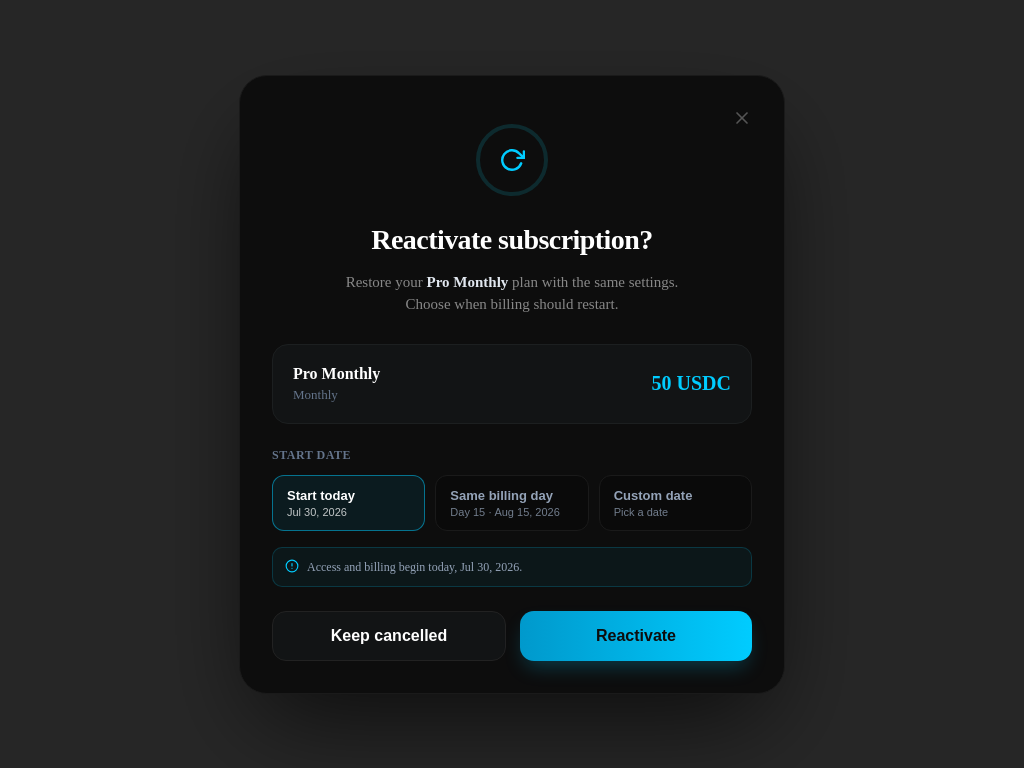
Test case: ReactivationModal – microcopy › shows billing-day microcopy when billing-day mode is selected
Step 1. Click the button "Same billing day Day 15 · Aug 15, 2026" → (512, 502), box x1=435 y1=474 x2=589 y2=530
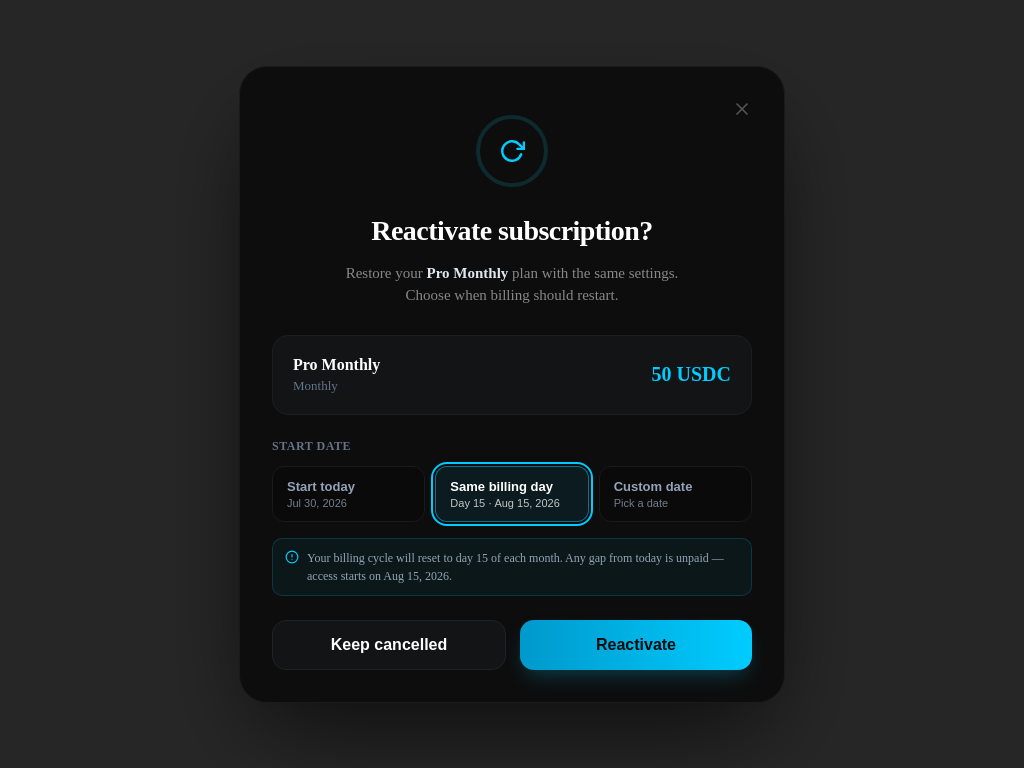
Expected: the text "billing cycle will reset to day 15" is shown, x1=307 y1=550 x2=724 y2=582
